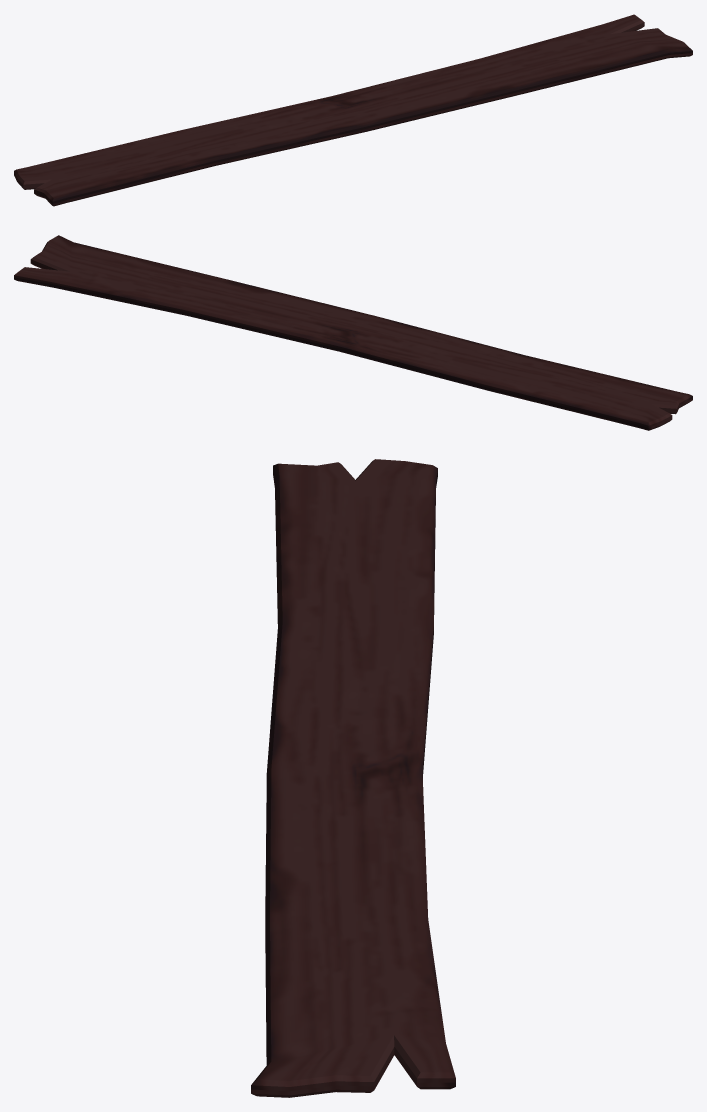
Rendered from MOD_PlankThick_Block.fbx.
The picture shows the model from 3 angles, top to bottom: view 1: azimuth 30°, elevation 25°; view 2: azimuth 150°, elevation 25°; view 3: azimuth 270°, elevation 25°; orthographic projection. The views are drawn at different scales.
Parts seen in each view (by area): view 1: MOD_PlankThick_Block; view 2: MOD_PlankThick_Block; view 3: MOD_PlankThick_Block.
Part boxes in pixels (x1,y1,x2,y2): MOD_PlankThick_Block: [14, 14, 692, 206]; MOD_PlankThick_Block: [14, 235, 692, 430]; MOD_PlankThick_Block: [251, 459, 455, 1097].
Bounding box in the file's own units: 400 × 5.03 × 55.36.
1 material, 1 textured.
